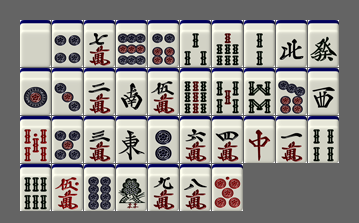0m: (52, 164, 83, 211)
0p: (212, 164, 243, 211)
0s: (20, 116, 51, 163)
1m: (276, 116, 307, 163)
1p: (20, 68, 51, 115)
1s: (116, 164, 147, 211)
1z: (116, 116, 147, 163)
2m: (84, 68, 115, 115)
2p: (148, 116, 179, 163)
2s: (244, 20, 275, 67)
2z: (116, 68, 147, 115)
3m: (84, 116, 115, 163)
3p: (52, 68, 83, 115)
3s: (180, 20, 211, 67)
3z: (308, 68, 339, 115)
4m: (212, 116, 243, 163)
4p: (52, 20, 83, 67)
4s: (308, 116, 339, 163)
4z: (276, 20, 307, 67)
5m: (148, 68, 179, 115)
5p: (52, 116, 83, 163)
5s: (212, 68, 243, 115)
5z: (20, 20, 51, 67)
6m: (180, 116, 211, 163)
6p: (148, 20, 179, 67)
6s: (20, 164, 51, 211)
6z: (308, 20, 339, 67)
7m: (84, 20, 115, 67)
7p: (276, 68, 307, 115)
7s: (212, 20, 243, 67)
7z: (244, 116, 275, 163)
8m: (180, 164, 211, 211)
8p: (84, 164, 115, 211)
8s: (244, 68, 275, 115)
9m: (148, 164, 179, 211)
9p: (116, 20, 147, 67)
9s: (180, 68, 211, 115)
